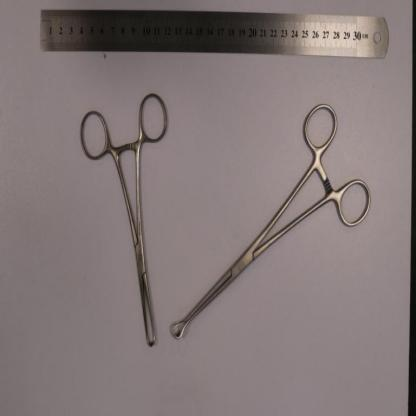8 Babcock Tissue Forceps: (174, 100, 374, 340)
Allis Tissue Forceps: (79, 92, 169, 347)
